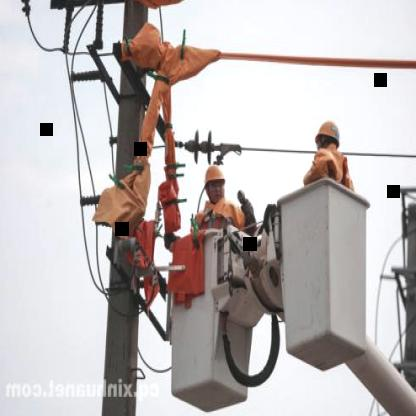helmet: (313, 117, 343, 161), (202, 161, 230, 207)
